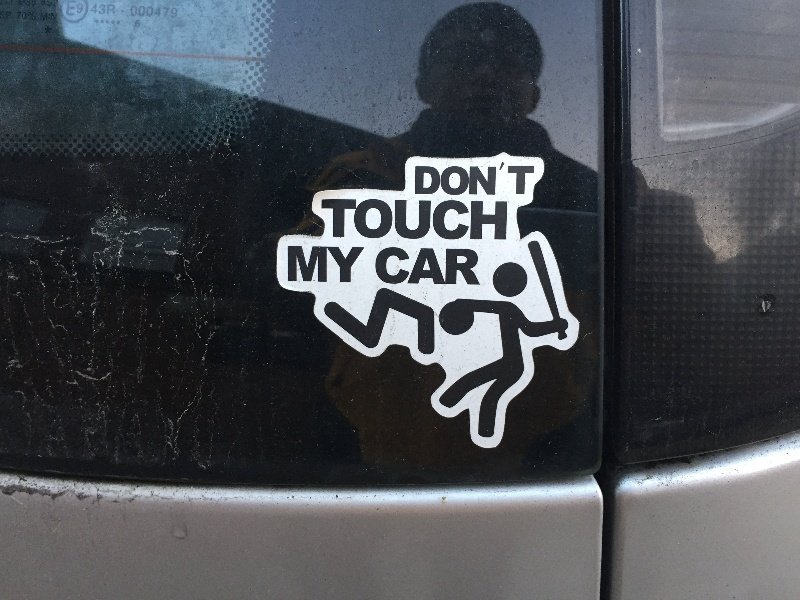text: (337, 200, 352, 241), (353, 200, 368, 241), (369, 200, 384, 241), (385, 200, 400, 241), (401, 200, 416, 241), (417, 200, 432, 241), (433, 200, 448, 241), (449, 200, 464, 241), (465, 200, 480, 241), (481, 200, 496, 241), (322, 200, 336, 241), (385, 247, 400, 285), (401, 247, 416, 285), (417, 247, 432, 285), (433, 247, 448, 285), (449, 247, 464, 285), (465, 247, 480, 285), (289, 246, 304, 283), (305, 246, 320, 283), (321, 246, 336, 283), (337, 246, 352, 283), (417, 161, 432, 196), (433, 161, 448, 196), (449, 161, 464, 196), (465, 161, 480, 196), (481, 161, 496, 196), (497, 161, 512, 196), (513, 161, 528, 196), (497, 200, 508, 241), (353, 246, 365, 283), (376, 247, 384, 285), (67, 1, 80, 17), (97, 3, 112, 16), (145, 6, 160, 19), (161, 6, 176, 19), (529, 161, 534, 196), (132, 6, 144, 19), (17, 11, 32, 21), (33, 1, 48, 7), (97, 19, 112, 25), (18, 1, 32, 7), (49, 12, 58, 21), (136, 20, 144, 29), (81, 1, 85, 17), (41, 12, 48, 21), (49, 1, 59, 7), (92, 3, 96, 16), (113, 19, 121, 25), (113, 3, 116, 16), (415, 161, 416, 196), (33, 11, 36, 21), (122, 10, 128, 13), (177, 6, 178, 19)
